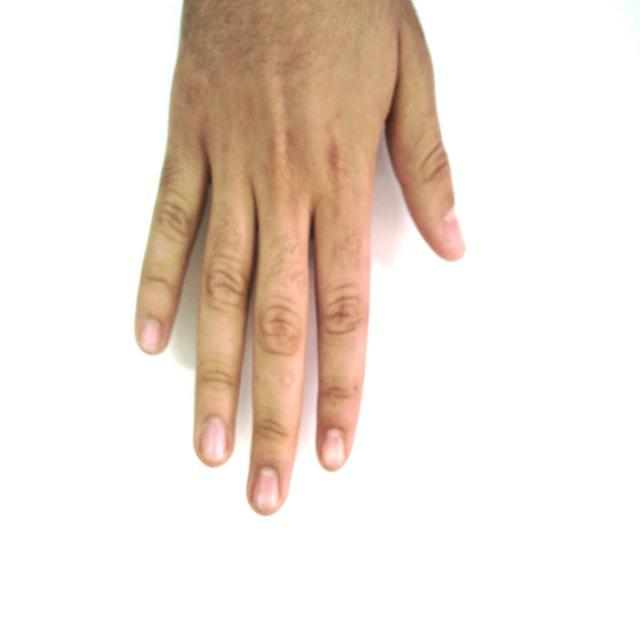Fingernail: (255, 467, 280, 512), (202, 418, 226, 461), (323, 429, 344, 468), (444, 212, 464, 249), (141, 322, 161, 352)
